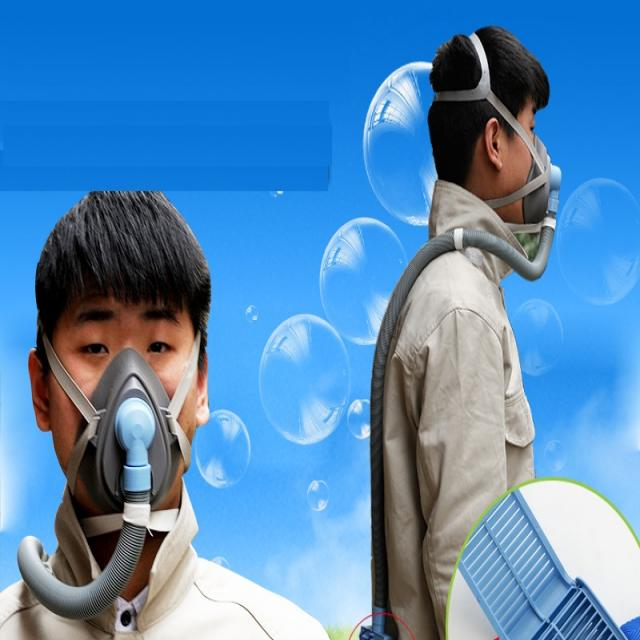mask: (52, 263, 194, 515), (504, 93, 549, 228)
